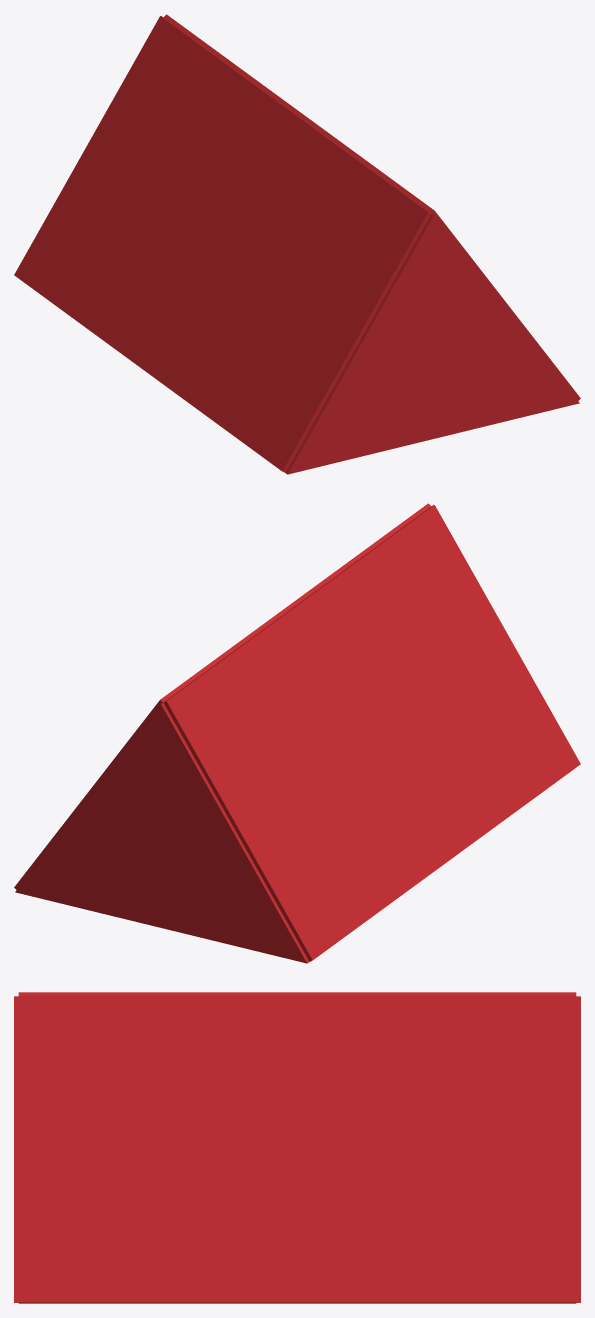
File: tent.fbx
3 views of the same model, one above another, from view 1: azimuth 30°, elevation 25°; view 2: azimuth 150°, elevation 25°; view 3: azimuth 270°, elevation 25° (orthographic). The views are drawn at different scales.
Visible parts, largest first — view 1: Tent; view 2: Tent; view 3: Tent.
Boxes of the visible parts, x1,y1,x2,y2 form: Tent: (14,14,580,474); Tent: (14,503,580,963); Tent: (14,992,580,1303).
Bounding box in the file's own units: 1.93 × 1.41 × 3.05.
